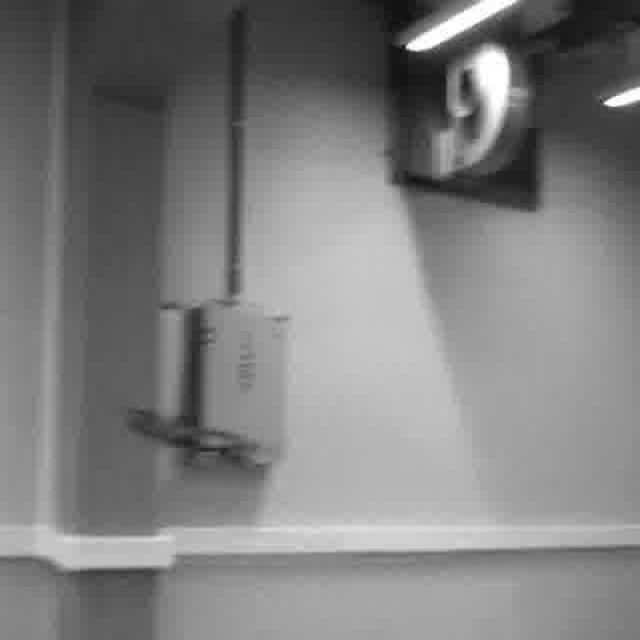Drone_FW: (126, 401, 267, 462)
